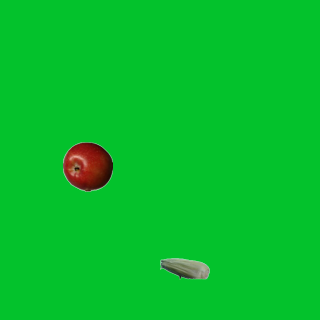Apple Braeburn: (62, 141, 112, 191)
Corn Husk: (159, 243, 209, 293)
